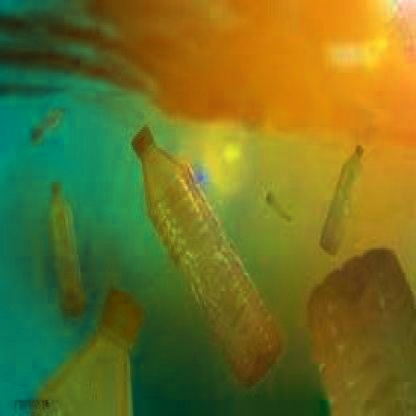pbottle: (124, 114, 292, 393), (296, 243, 416, 416), (13, 279, 155, 416), (36, 170, 88, 323), (313, 136, 374, 252), (26, 91, 71, 152), (257, 175, 295, 227)
